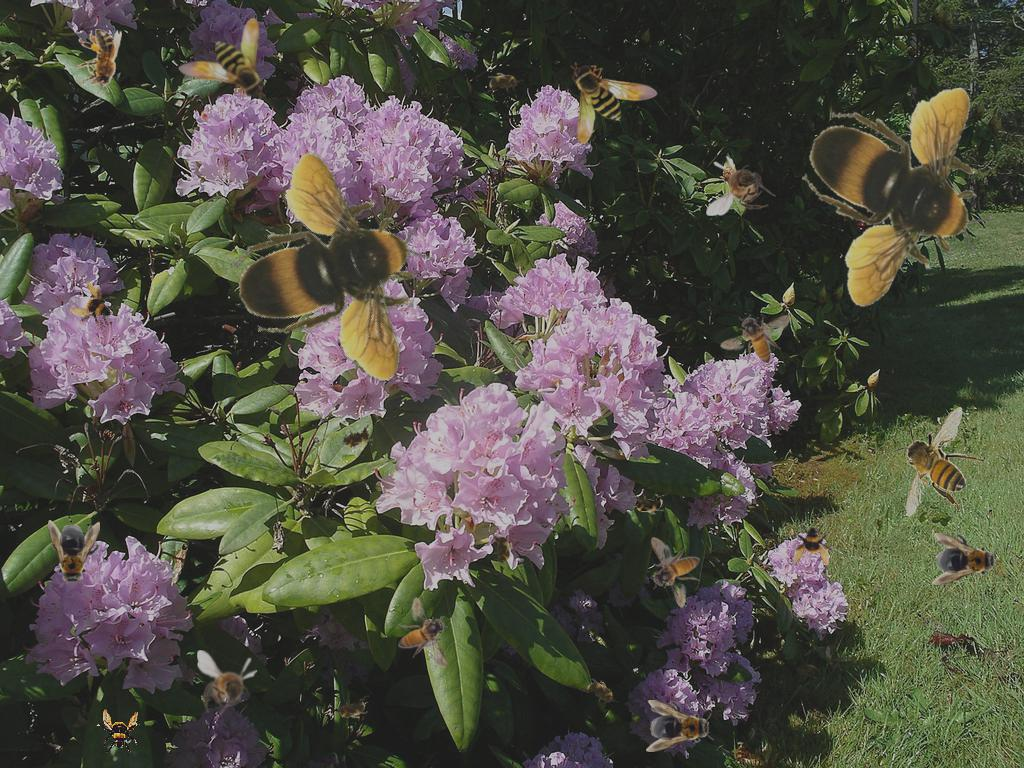Bee: (193, 131, 485, 422), (802, 88, 993, 308), (892, 406, 986, 517), (178, 18, 266, 100), (570, 62, 658, 144), (706, 155, 776, 216), (197, 650, 258, 720), (65, 278, 125, 338), (398, 597, 448, 668), (720, 314, 791, 364), (650, 537, 700, 608), (48, 520, 100, 588), (646, 700, 714, 752), (932, 533, 1000, 585), (77, 29, 122, 95), (792, 522, 836, 566), (96, 709, 140, 753), (578, 672, 624, 714), (333, 421, 379, 455), (329, 694, 373, 724), (491, 530, 513, 570), (484, 72, 524, 94), (628, 493, 668, 515)
